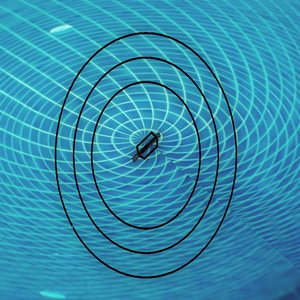circle: (49, 26, 269, 280)
